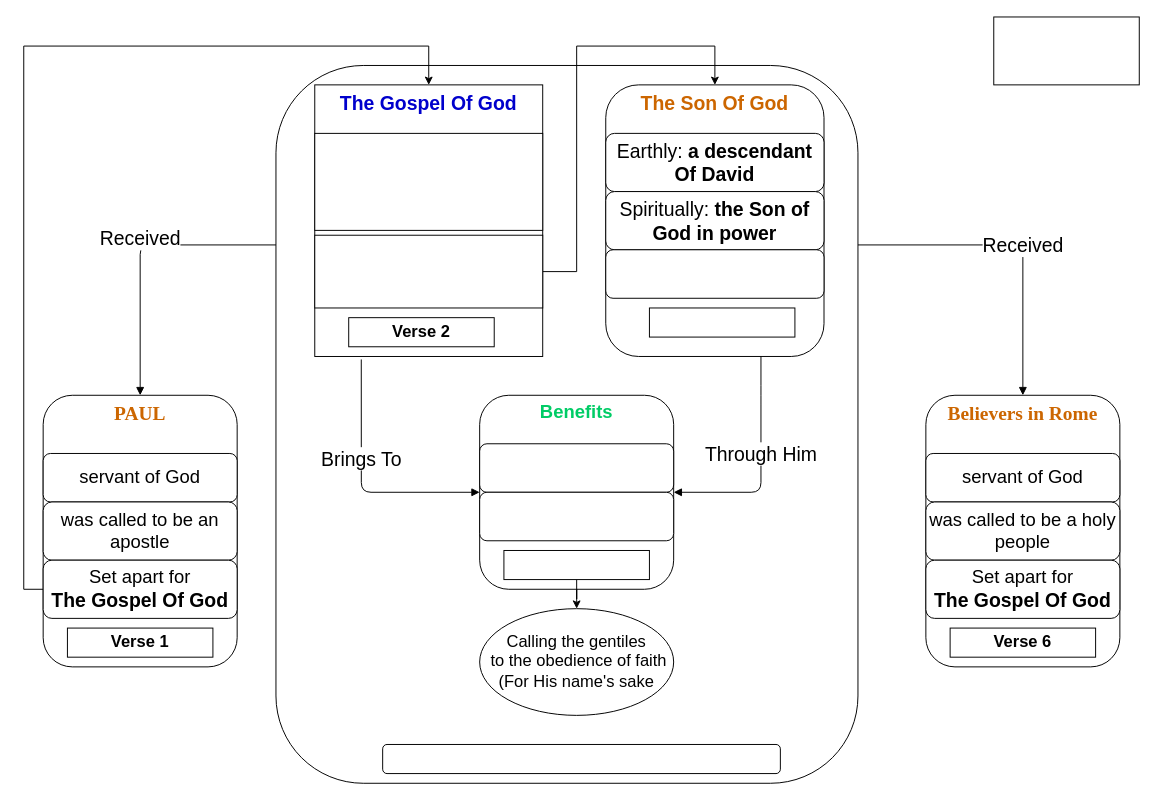
The diagram is 1156 pixels wide and 800 high, and some of its shapes have lost their labels. The centre of each missing label's shape, as x and y in pixels:
Charisteristic: Was promised by God through the prophets (In Holy Scriptures): pixel 428 181
Content: Son Of God: pixel 428 271
Name: Jesus Christ: pixel 714 273
Receiving apostleship: pixel 576 516
Receiving Grace: pixel 576 467
Roman 1:1-7: pixel 1066 50
The Gospel Of God/Jesus Christ: pixel 581 759
Verse 3-4: pixel 721 322
Verse 5: pixel 576 565
